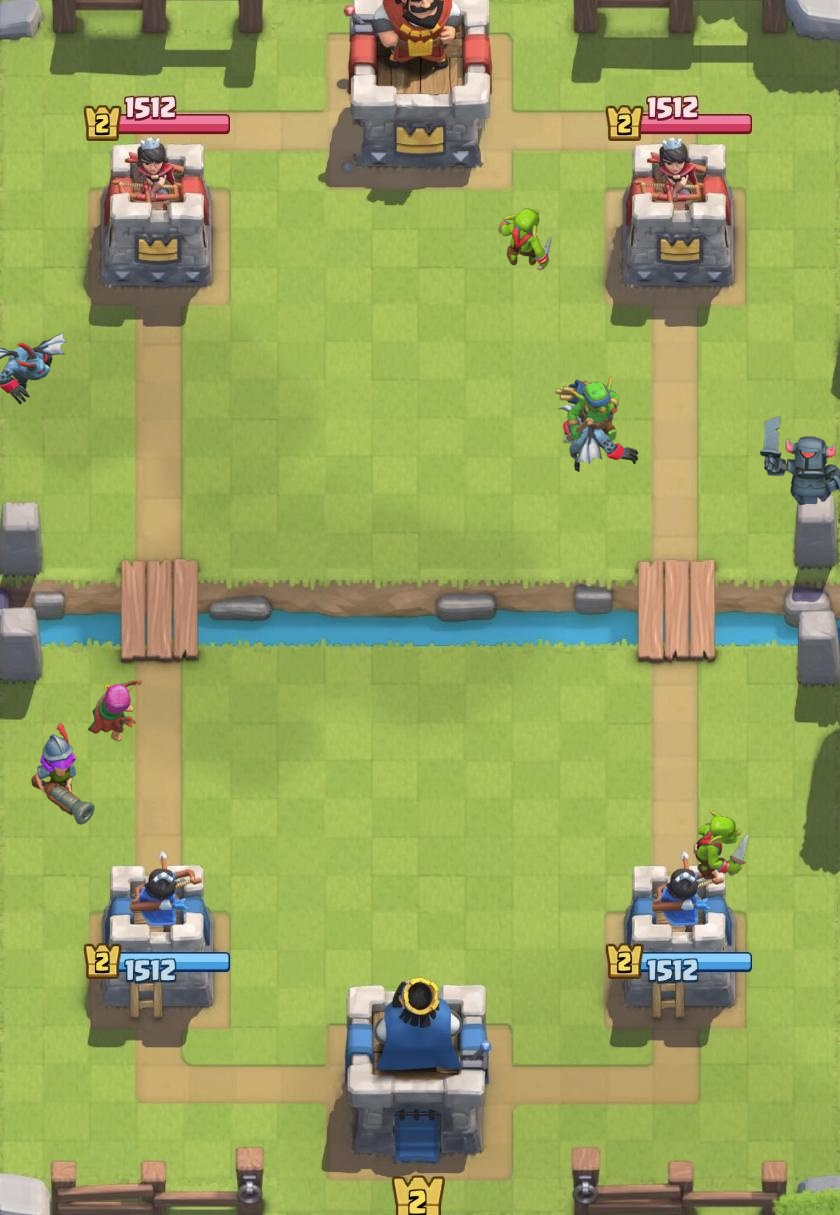archer_enemy: (88, 680, 142, 742)
goblin_enemy: (693, 809, 750, 882), (498, 208, 552, 271)
mekka_enemy: (759, 416, 840, 506)
minion_enemy: (558, 401, 639, 473), (0, 332, 67, 405)
musketeer_enemy: (31, 723, 95, 825)
spoblin_ally: (555, 376, 620, 444)
